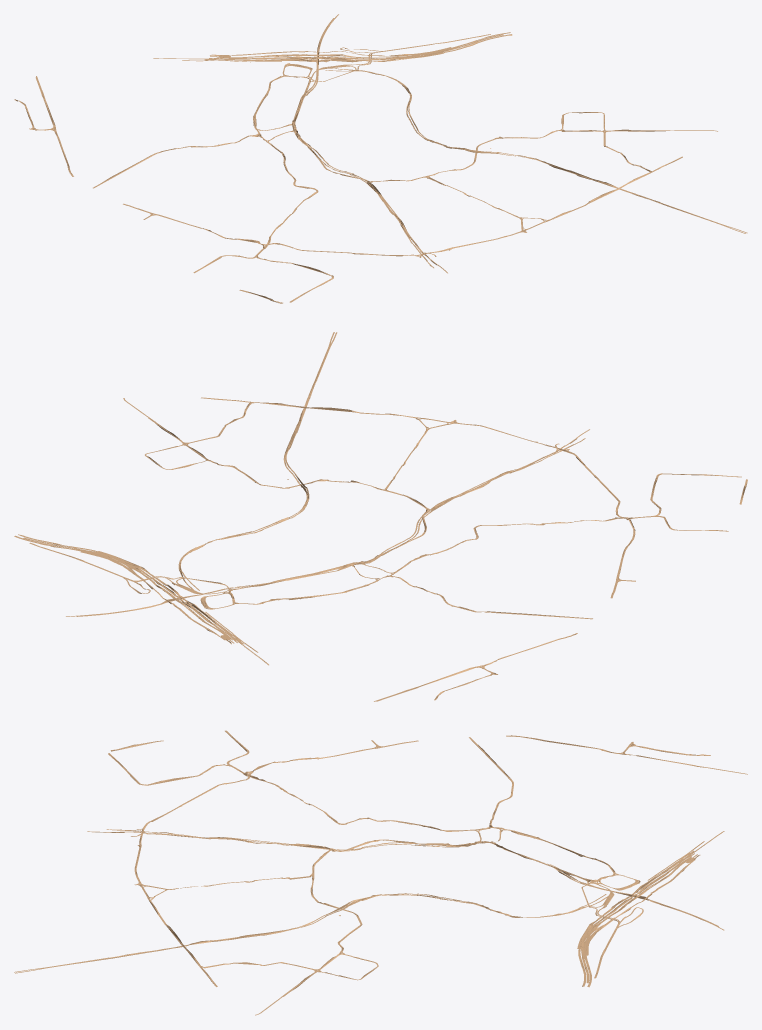
Rendered from rail.glb.
3 renders of one model, top to bottom at view 1: azimuth 30°, elevation 25°; view 2: azimuth 150°, elevation 25°; view 3: azimuth 270°, elevation 25°, orthographic. The views are drawn at different scales.
Visible parts, largest first — view 1: rail; view 2: rail; view 3: rail.
Part boxes in pixels (x1=…): rail: x1=14, y1=14, x2=747, y2=303; rail: x1=14, y1=332, x2=747, y2=701; rail: x1=14, y1=730, x2=747, y2=1015.
Size of the model in its own units: 2934 by 38.57 by 3191.
